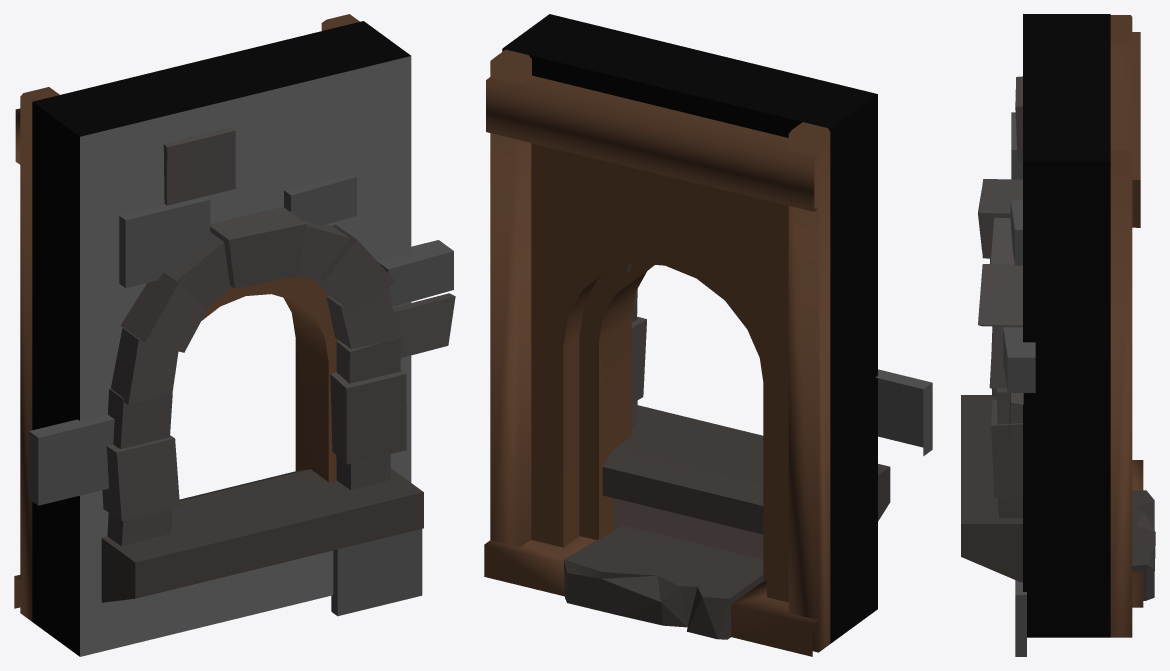
Rendered from Wall_S_WindowWood.fbx.
The picture shows the model from 3 angles, left to right: view 1: azimuth 30°, elevation 25°; view 2: azimuth 150°, elevation 25°; view 3: azimuth 270°, elevation 25°; orthographic projection. The views are drawn at different scales.
Parts seen in each view (by area): view 1: Wall_S_WindowWood; view 2: Wall_S_WindowWood; view 3: Wall_S_WindowWood.
Boxes of the visible parts, box(x1,y1,x2,y2) form: Wall_S_WindowWood: box(14, 14, 455, 656); Wall_S_WindowWood: box(484, 14, 932, 656); Wall_S_WindowWood: box(961, 14, 1155, 656).
Size of the model in its own units: 4.84 by 5.96 by 2.14.
